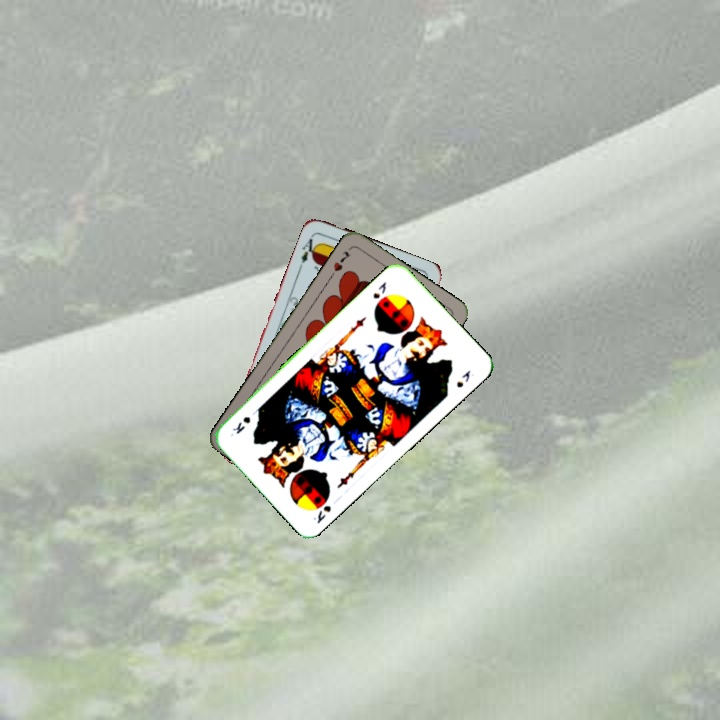EA: (297, 231, 321, 266)
H7: (326, 247, 353, 280)
SK: (309, 501, 334, 526), (369, 277, 389, 302)
